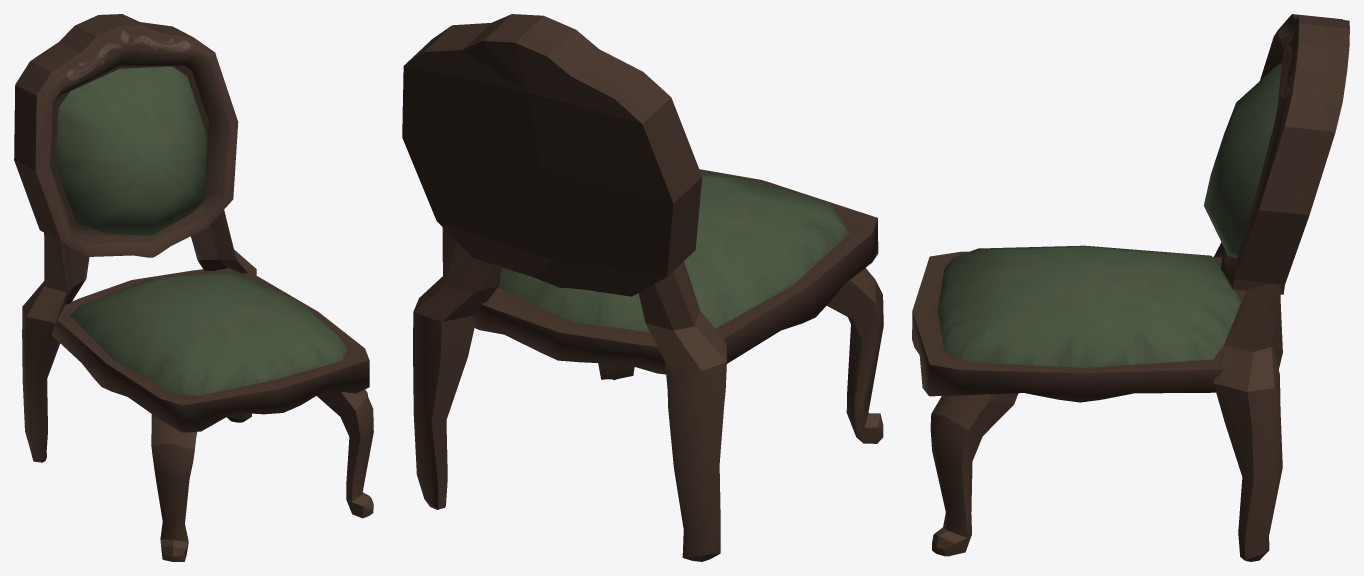
Rendered from chair2.FBX.
3 renders of one model, left to right at view 1: azimuth 30°, elevation 25°; view 2: azimuth 150°, elevation 25°; view 3: azimuth 270°, elevation 25°, orthographic. The views are drawn at different scales.
Visible parts, largest first — view 1: Box049; view 2: Box049; view 3: Box049.
Boxes of the visible parts, bbox=[...] form: Box049: bbox=[14, 14, 373, 561]; Box049: bbox=[402, 14, 883, 561]; Box049: bbox=[912, 14, 1349, 561].
Bounding box in the file's own units: 21.49 × 29.92 × 36.05.
1 material, 1 textured.
